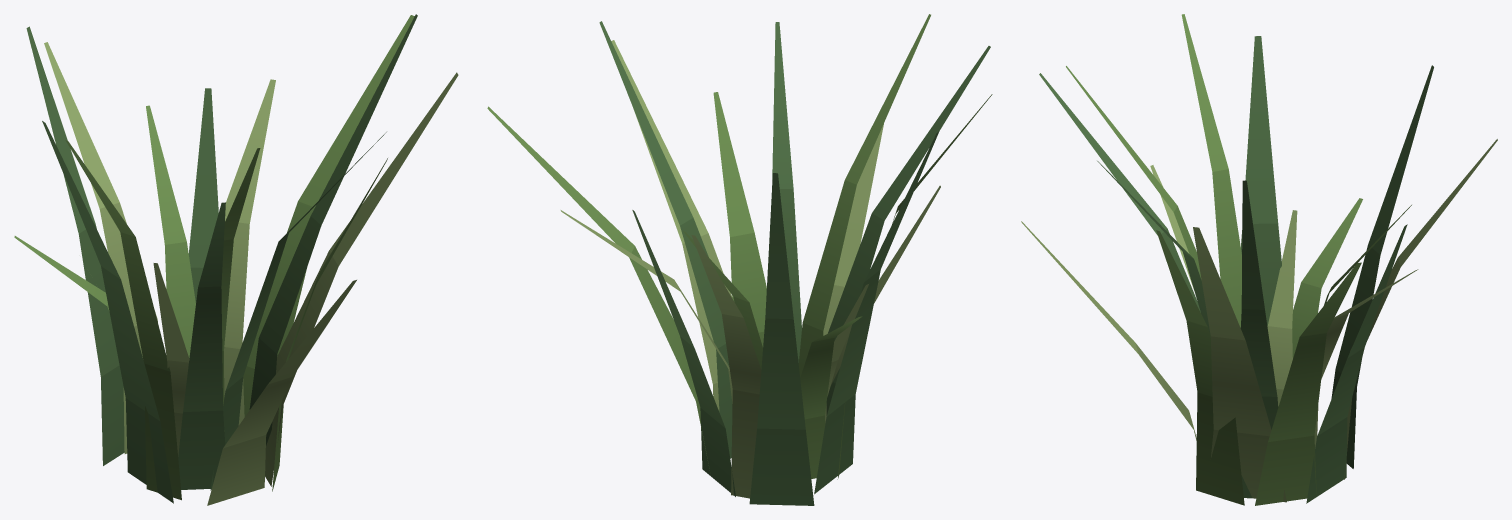
The model's file is grand-river-ground-detail.glb.
3 views of the same model, side by side, from view 1: azimuth 30°, elevation 25°; view 2: azimuth 150°, elevation 25°; view 3: azimuth 270°, elevation 25° (orthographic). The views are drawn at different scales.
Visible parts, largest first — view 1: grand-river; view 2: grand-river; view 3: grand-river.
Part boxes in pixels (x1,y1,x2,y2): grand-river: (14,14,458,505); grand-river: (487,14,992,505); grand-river: (1021,14,1497,505).
Bounding box in the file's own units: 0.5857 × 0.5274 × 0.5886.
